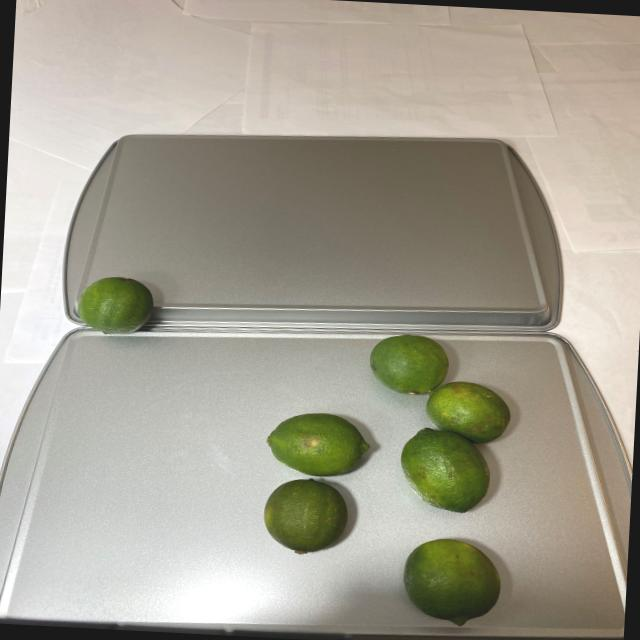lemon: (253, 328, 531, 630), (76, 277, 156, 336)
